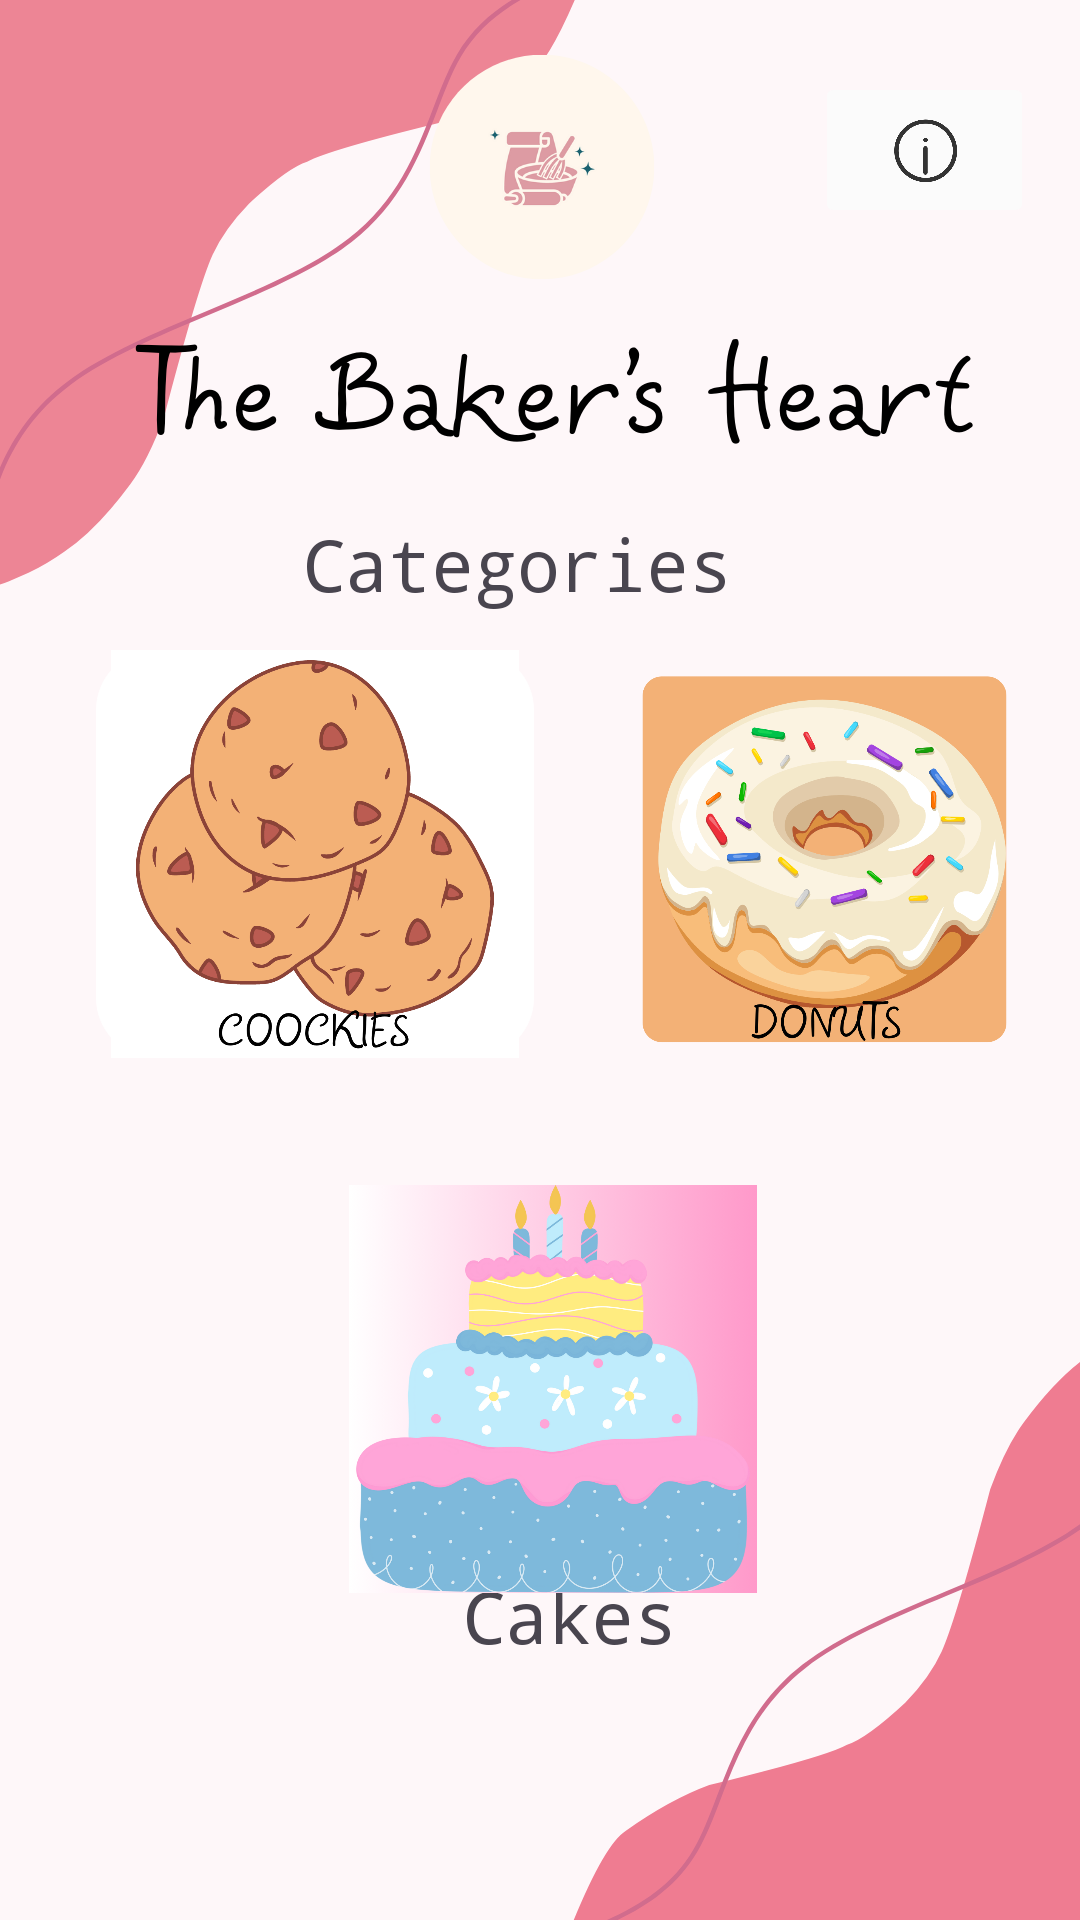

Locate icon controls on the screen. Image size 1080 × 1920, boxes as (x1, y1, x2, y2).
instructions: (894, 119, 957, 182)
